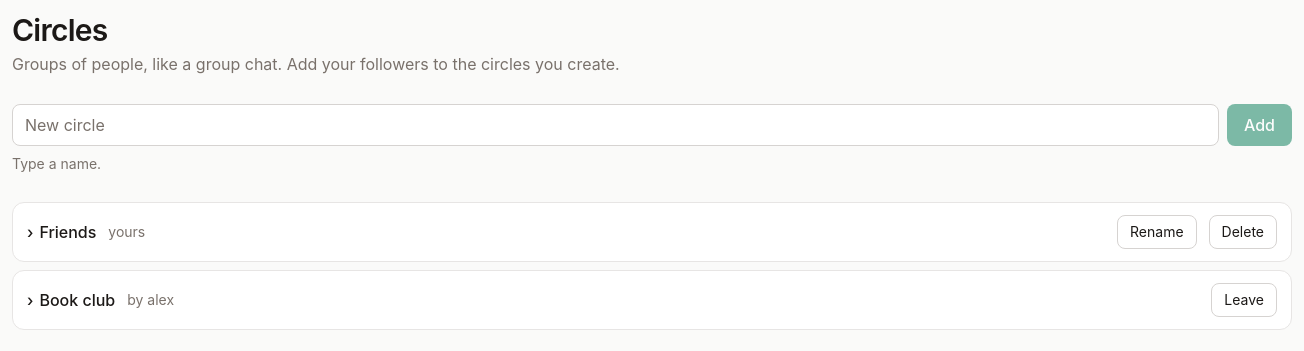
Test: Circles › renames a circle you own
This screenshot has width=1304, height=351.
Click the button with aria-label "Rename Friends" at (1157, 232), box top-left (1117, 215), bottom-right (1196, 249)
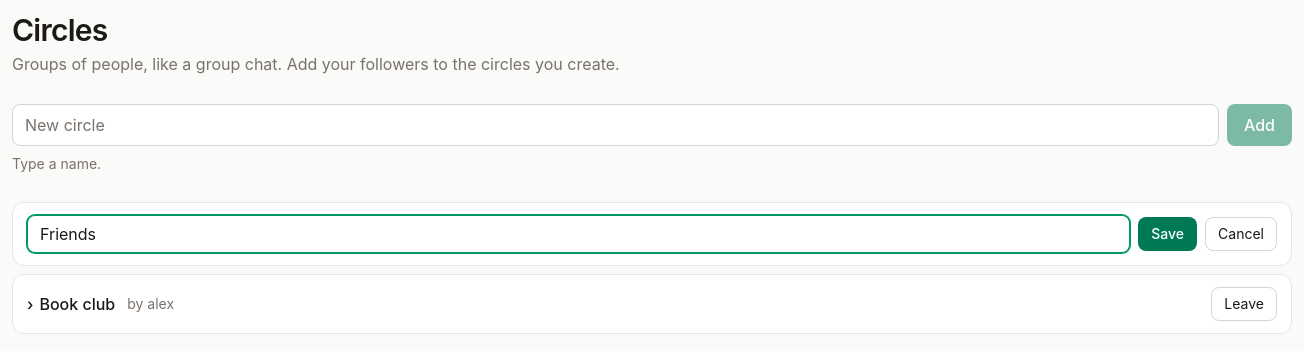
Replace the text in the field named "New name for Friends" with "Close friends" at (579, 234), box top-left (27, 215), bottom-right (1130, 253)
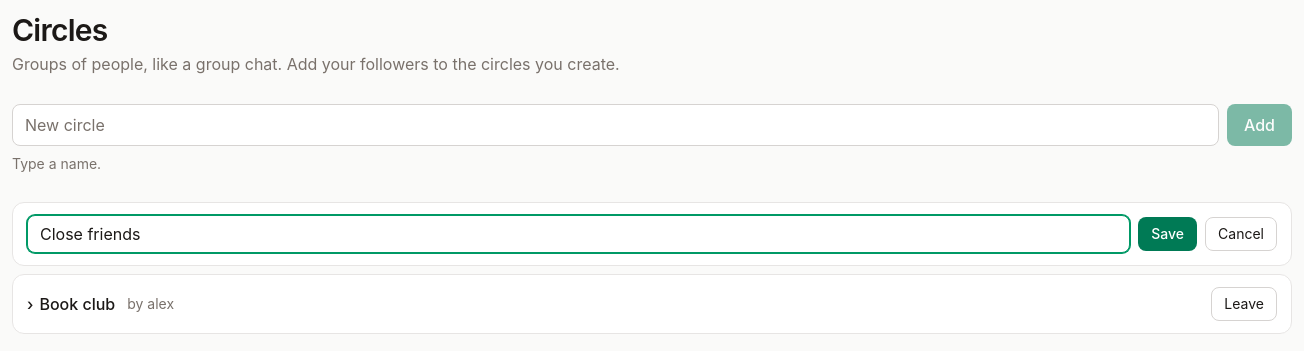
Click the button "Save" at (1168, 234), box top-left (1138, 217), bottom-right (1197, 251)
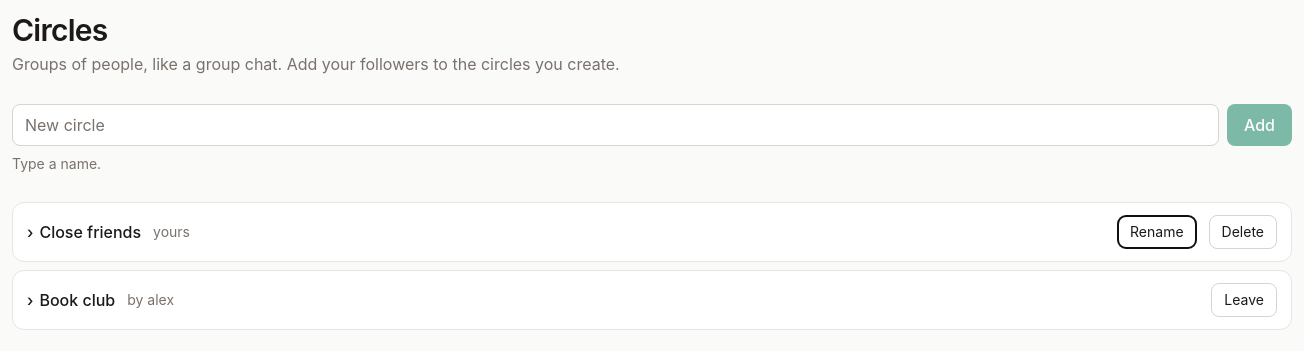
Result: the list item "friends" is shown at top-left (12, 202), bottom-right (1292, 262)
